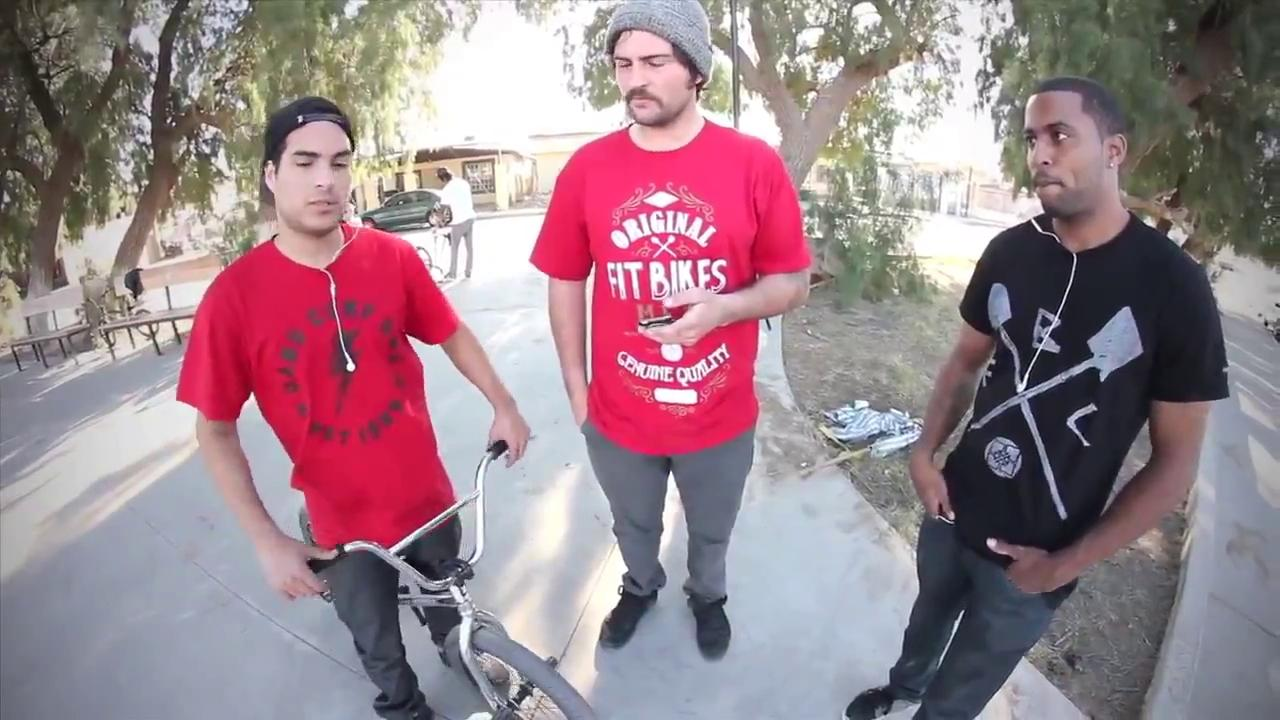victim: (840, 78, 1215, 719), (180, 96, 534, 714), (538, 3, 816, 664), (420, 162, 488, 290)
